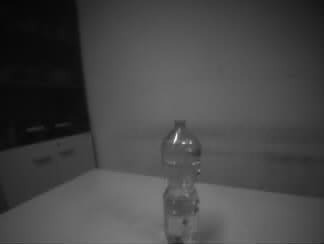Bottle: (161, 118, 202, 243)
